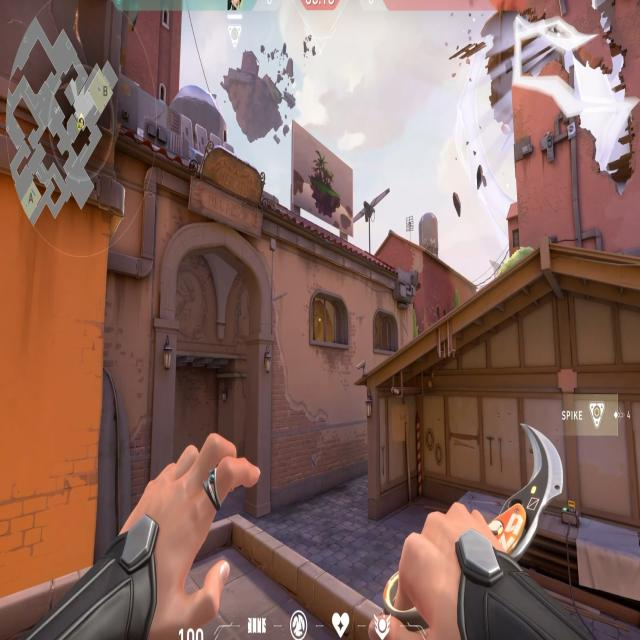B_Garage_Left: (364, 381, 514, 540)
Throwables: (306, 287, 355, 355), (370, 304, 400, 356)
